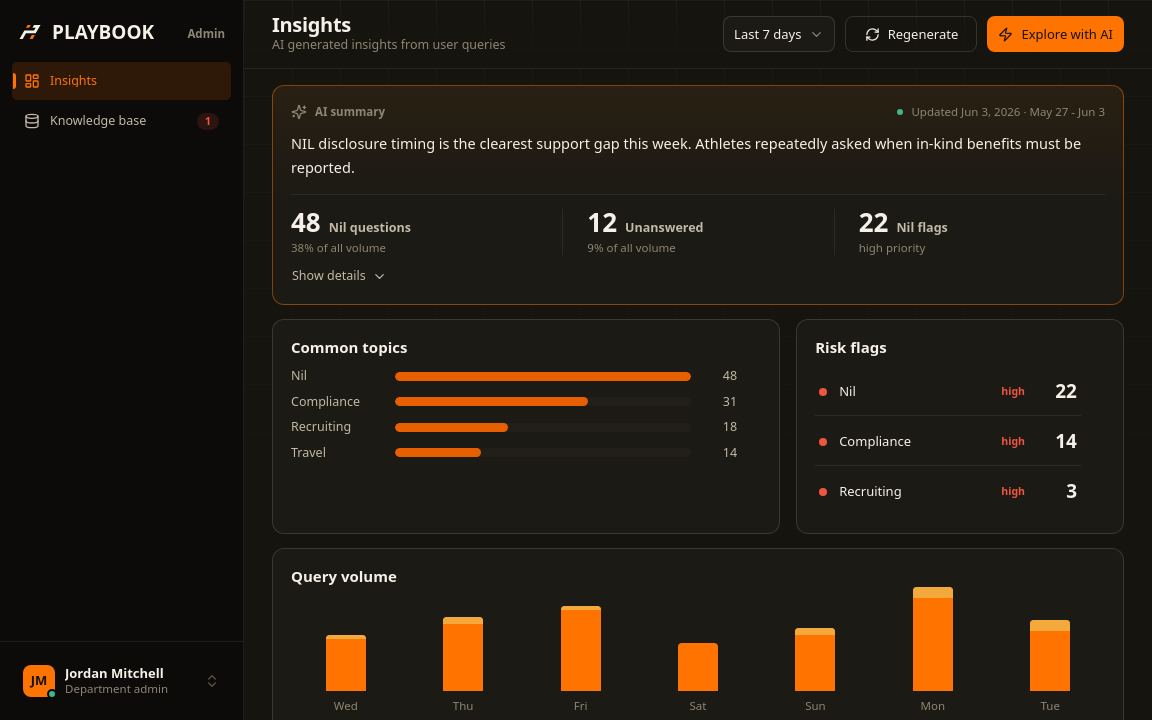
it: AdminShell › shows only the chat workspace switcher from the admin account menu
This screenshot has width=1152, height=720.
Click the button with aria-label "jordan mitchell account menu" at (122, 681), box [12,656,231,706]
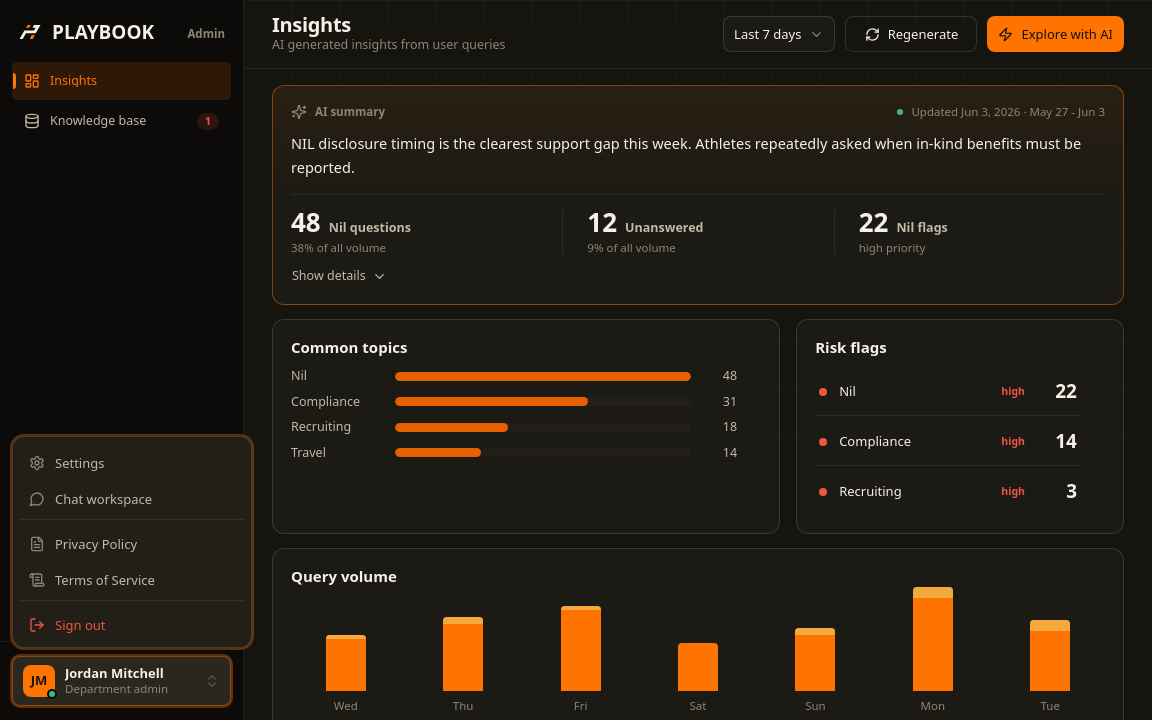
Now the menu item "Chat workspace" is shown, box [29,490,152,508]
